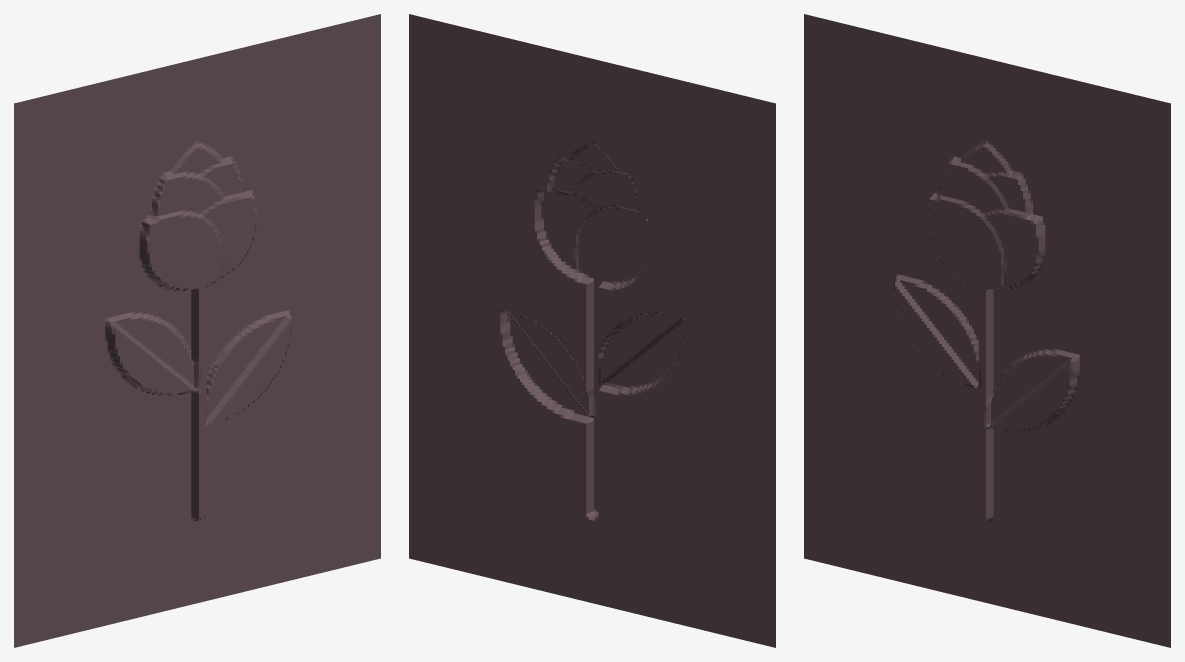
File: rose.glb
The picture shows the model from 3 angles, left to right: view 1: azimuth 30°, elevation 25°; view 2: azimuth 150°, elevation 25°; view 3: azimuth 330°, elevation 25°; orthographic projection.
Visible parts, largest first — view 1: Plane.041; view 2: Plane.041; view 3: Plane.041.
Part boxes in pixels (bbox=[...]): Plane.041: bbox=[14, 14, 380, 647]; Plane.041: bbox=[409, 14, 775, 647]; Plane.041: bbox=[804, 14, 1170, 647].
Size of the model in its own units: 4.1 by 5.82 by 0.0987.
